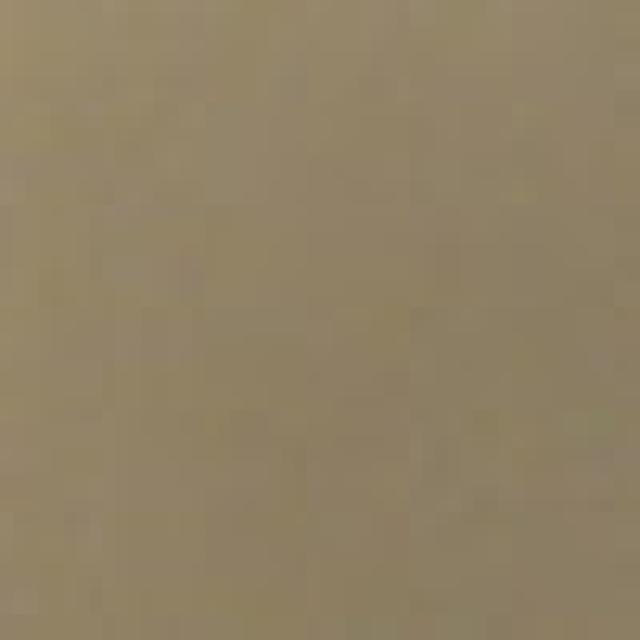no_fire: (0, 7, 521, 598)
